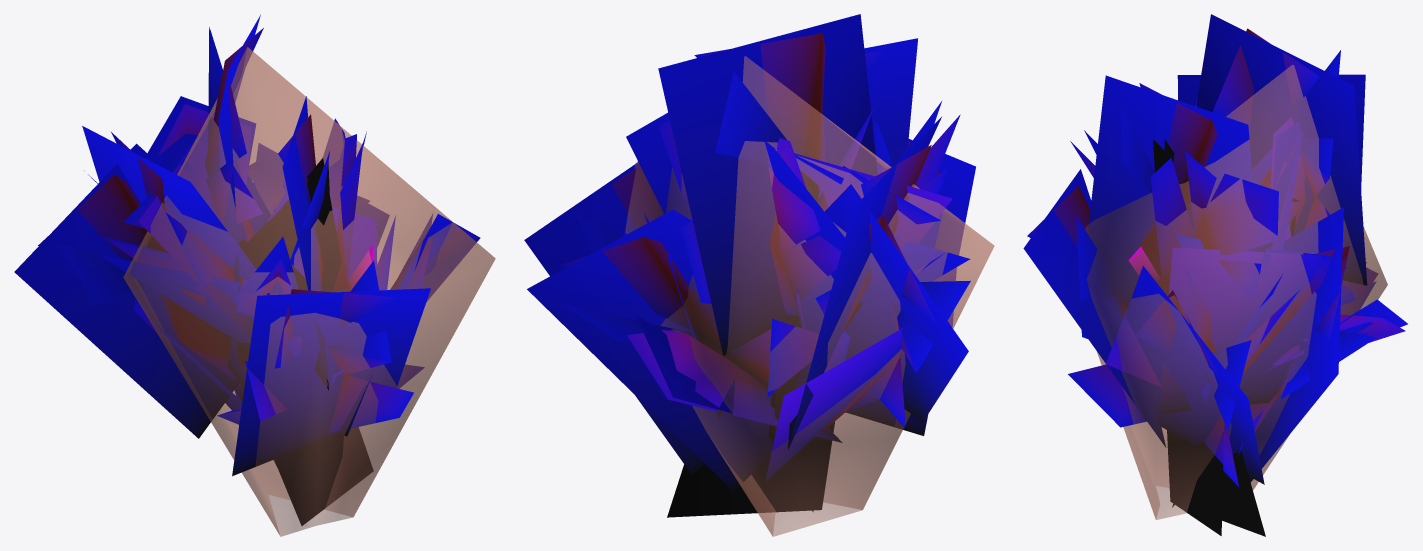
Rendered from tree_beech_bush_c.dae.
The picture shows the model from 3 angles, left to right: view 1: azimuth 30°, elevation 25°; view 2: azimuth 150°, elevation 25°; view 3: azimuth 270°, elevation 25°; orthographic projection. The views are drawn at different scales.
Visible parts, largest first — view 1: Colmesh_bush_c-1, beech_bush_c_a150, beech_bush_c_a350; view 2: beech_bush_c_a150, Colmesh_bush_c-1, beech_bush_c_a350; view 3: beech_bush_c_a150, Colmesh_bush_c-1, beech_bush_c_a350.
Boxes of the visible parts, x1,y1,x2,y2 form: Colmesh_bush_c-1: [123, 47, 495, 536]; beech_bush_c_a150: [14, 14, 480, 521]; beech_bush_c_a350: [38, 27, 479, 525]; beech_bush_c_a150: [524, 14, 975, 517]; Colmesh_bush_c-1: [625, 56, 994, 536]; beech_bush_c_a350: [558, 33, 970, 511]; beech_bush_c_a150: [1023, 14, 1407, 536]; Colmesh_bush_c-1: [1085, 65, 1387, 519]; beech_bush_c_a350: [1027, 28, 1405, 535].
Bounding box in the file's own units: 3.29 × 2.54 × 3.39.
